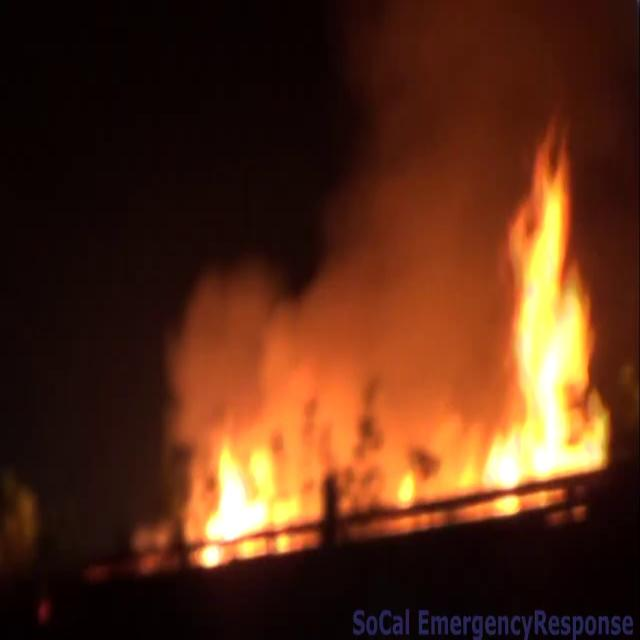Fire: (370, 127, 616, 500), (180, 432, 298, 563)
Smoke: (170, 0, 504, 428)
